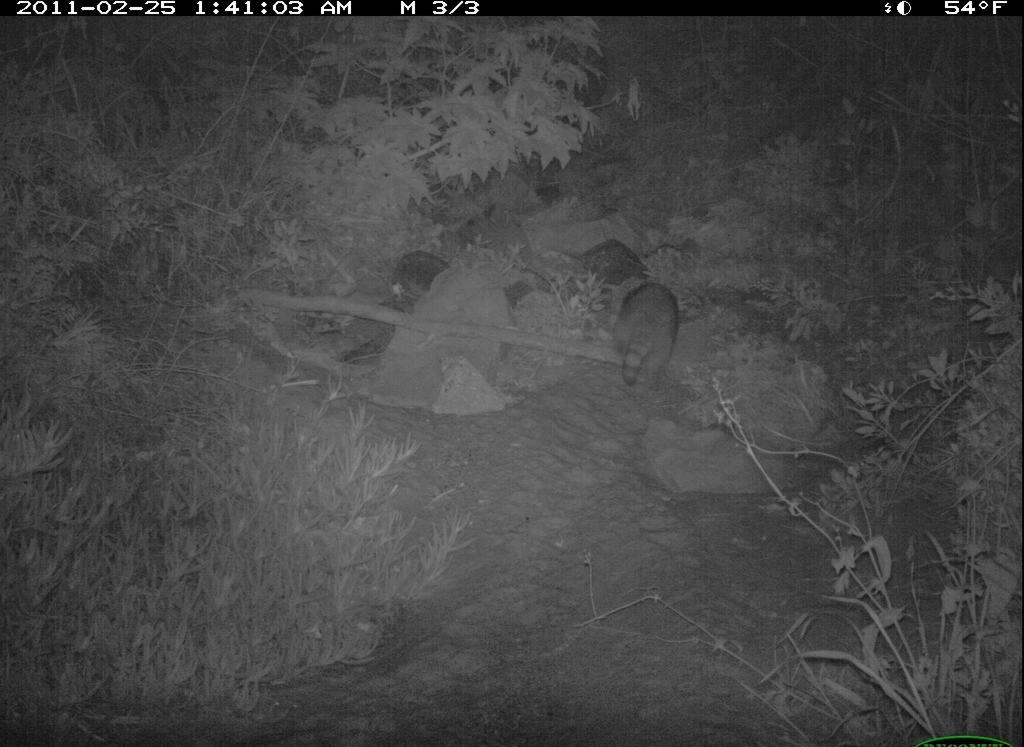raccoon: (606, 274, 687, 397)
